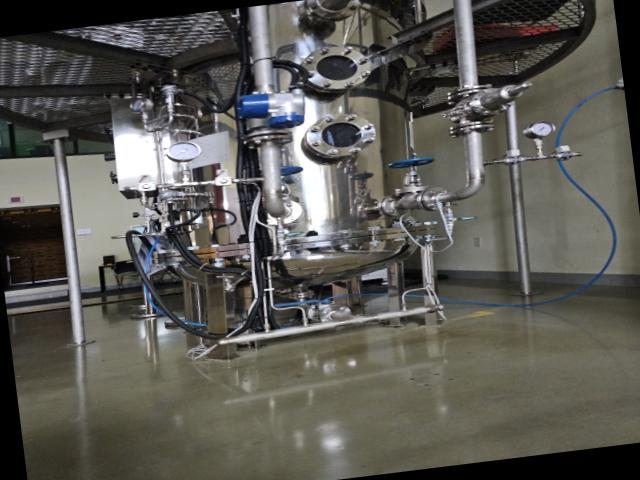Flange: (298, 110, 378, 164), (296, 42, 374, 96)
Flush Ring: (254, 197, 304, 228), (302, 0, 362, 24), (240, 126, 294, 150), (378, 192, 414, 220), (416, 186, 452, 213), (447, 84, 495, 104), (448, 119, 495, 138), (318, 304, 351, 326)
GasRegulator: (126, 79, 210, 146)
Nuts: (132, 178, 162, 194), (210, 174, 237, 190), (500, 154, 526, 166), (554, 150, 578, 162)
Piston Valve: (386, 155, 438, 194), (278, 164, 308, 202)
Pressure Gage: (164, 139, 206, 186), (522, 119, 558, 160)
